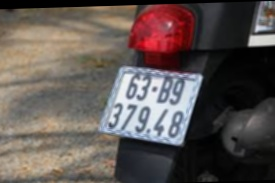Bien-so: (95, 61, 201, 146)
